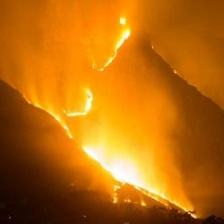fire: (77, 144, 199, 217), (66, 17, 135, 131)
